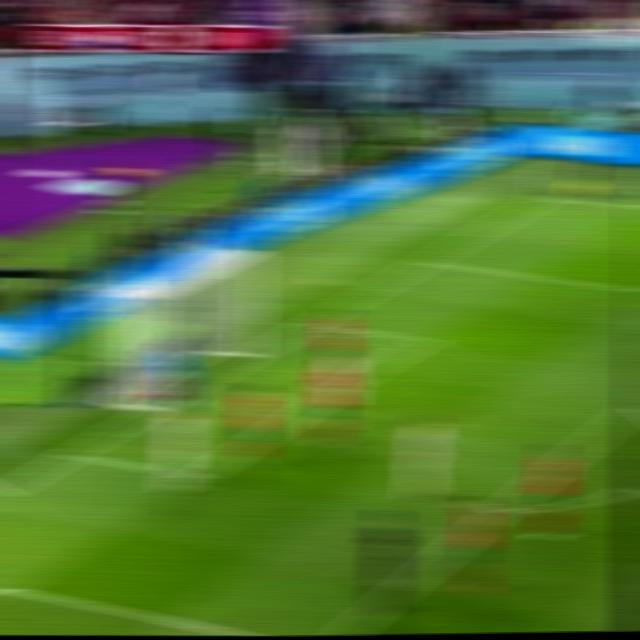bigarea_top_outter: (410, 252, 443, 271)
bottom_arc_area_intersection: (486, 496, 519, 525)
corner: (528, 194, 570, 204)
smallarea_bottom_inner: (180, 463, 216, 490)
smallarea_bottom_outter: (58, 447, 88, 461)
smallarea_top_inner: (406, 327, 439, 353)
smallarea_top_outter: (298, 315, 330, 330)
